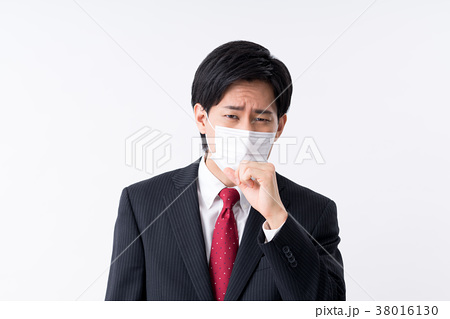mask: (212, 123, 274, 185)
